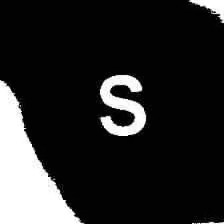LTR_S: (96, 67, 150, 137)
